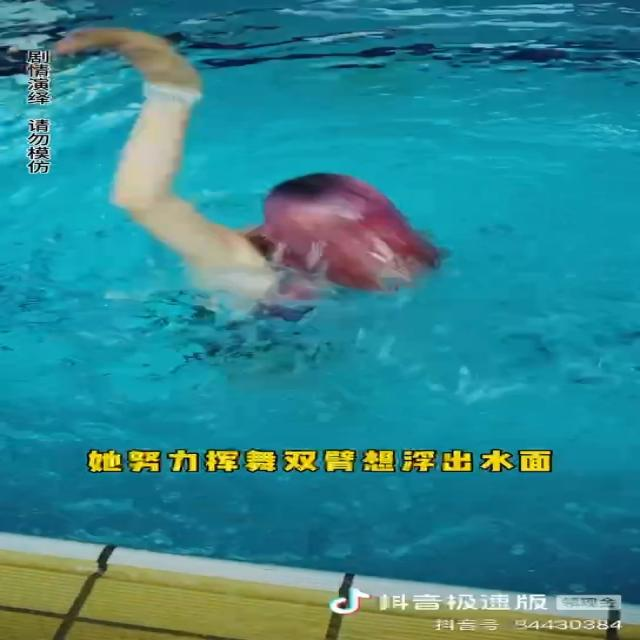Drowning: (66, 20, 450, 355)
